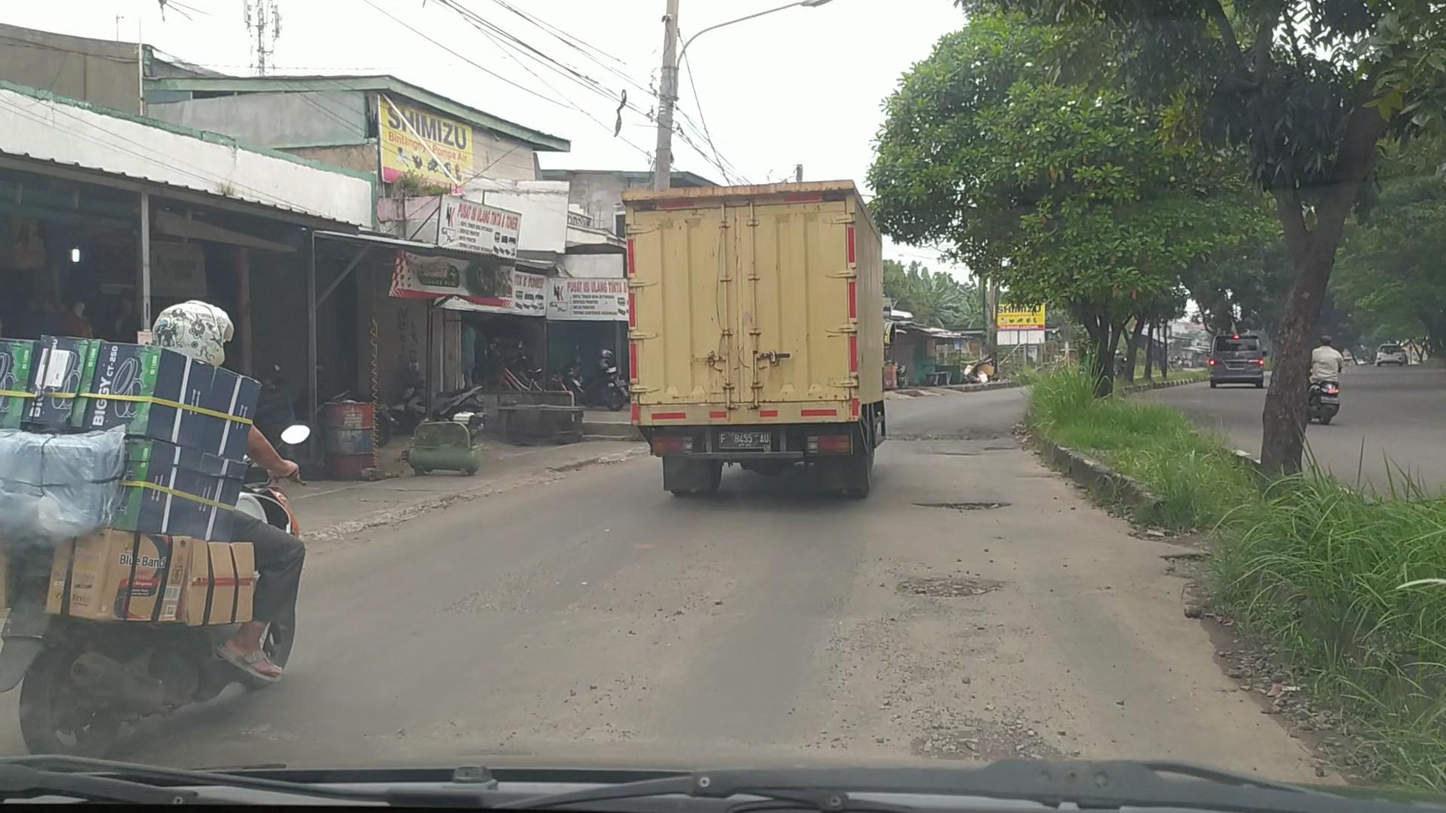pothole: (902, 714, 1070, 762), (891, 570, 1008, 600), (888, 423, 1004, 442), (908, 500, 1013, 512), (928, 451, 980, 457), (981, 445, 1018, 451)
